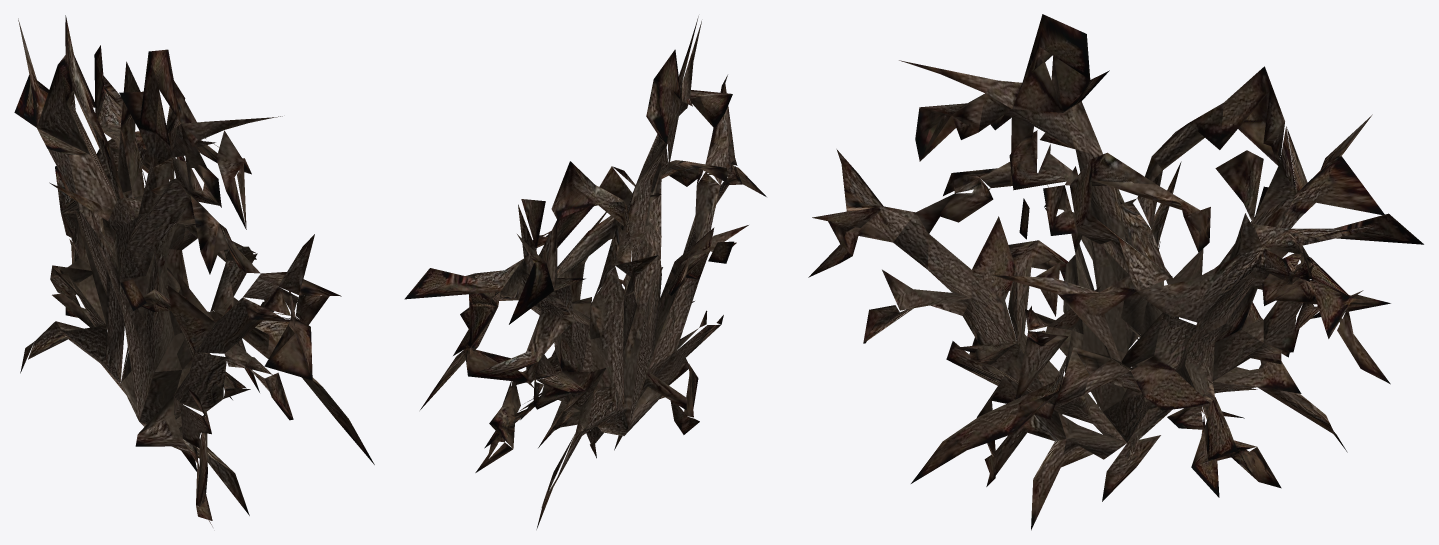
File: bush.glb
3 renders of one model, left to right at view 1: azimuth 30°, elevation 25°; view 2: azimuth 150°, elevation 25°; view 3: azimuth 270°, elevation 25°, orthographic. The views are drawn at different scales.
Bounding box in the file's own units: 0.3644 × 0.8432 × 1.
Materials: 1 (1 with a texture image).
